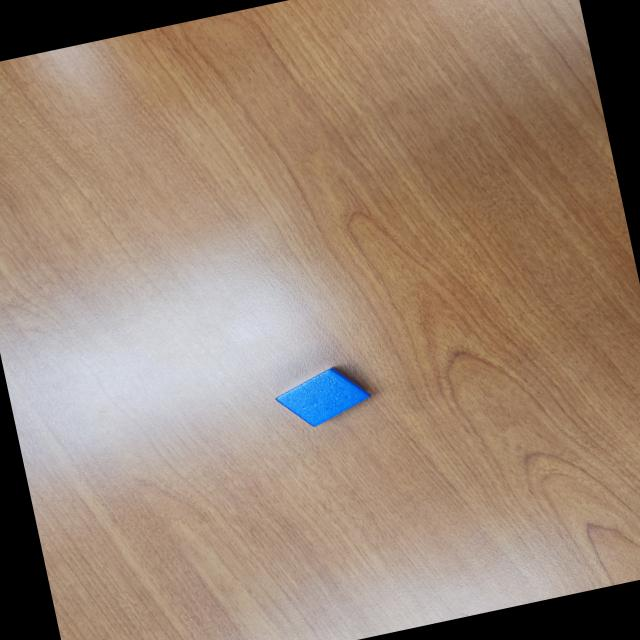blue: (270, 361, 375, 434)
